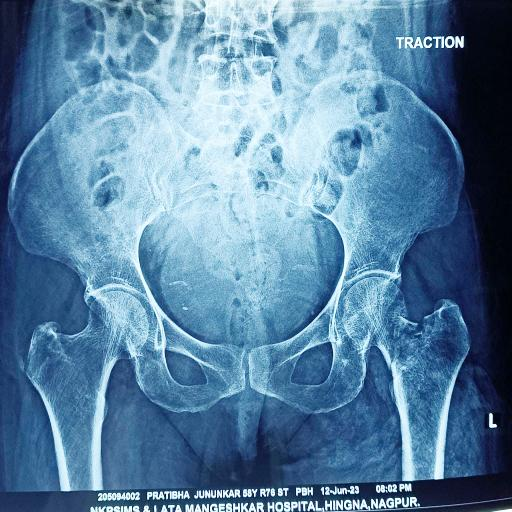neck: (389, 298, 471, 462), (343, 277, 418, 369)
normal: (25, 290, 149, 475)
